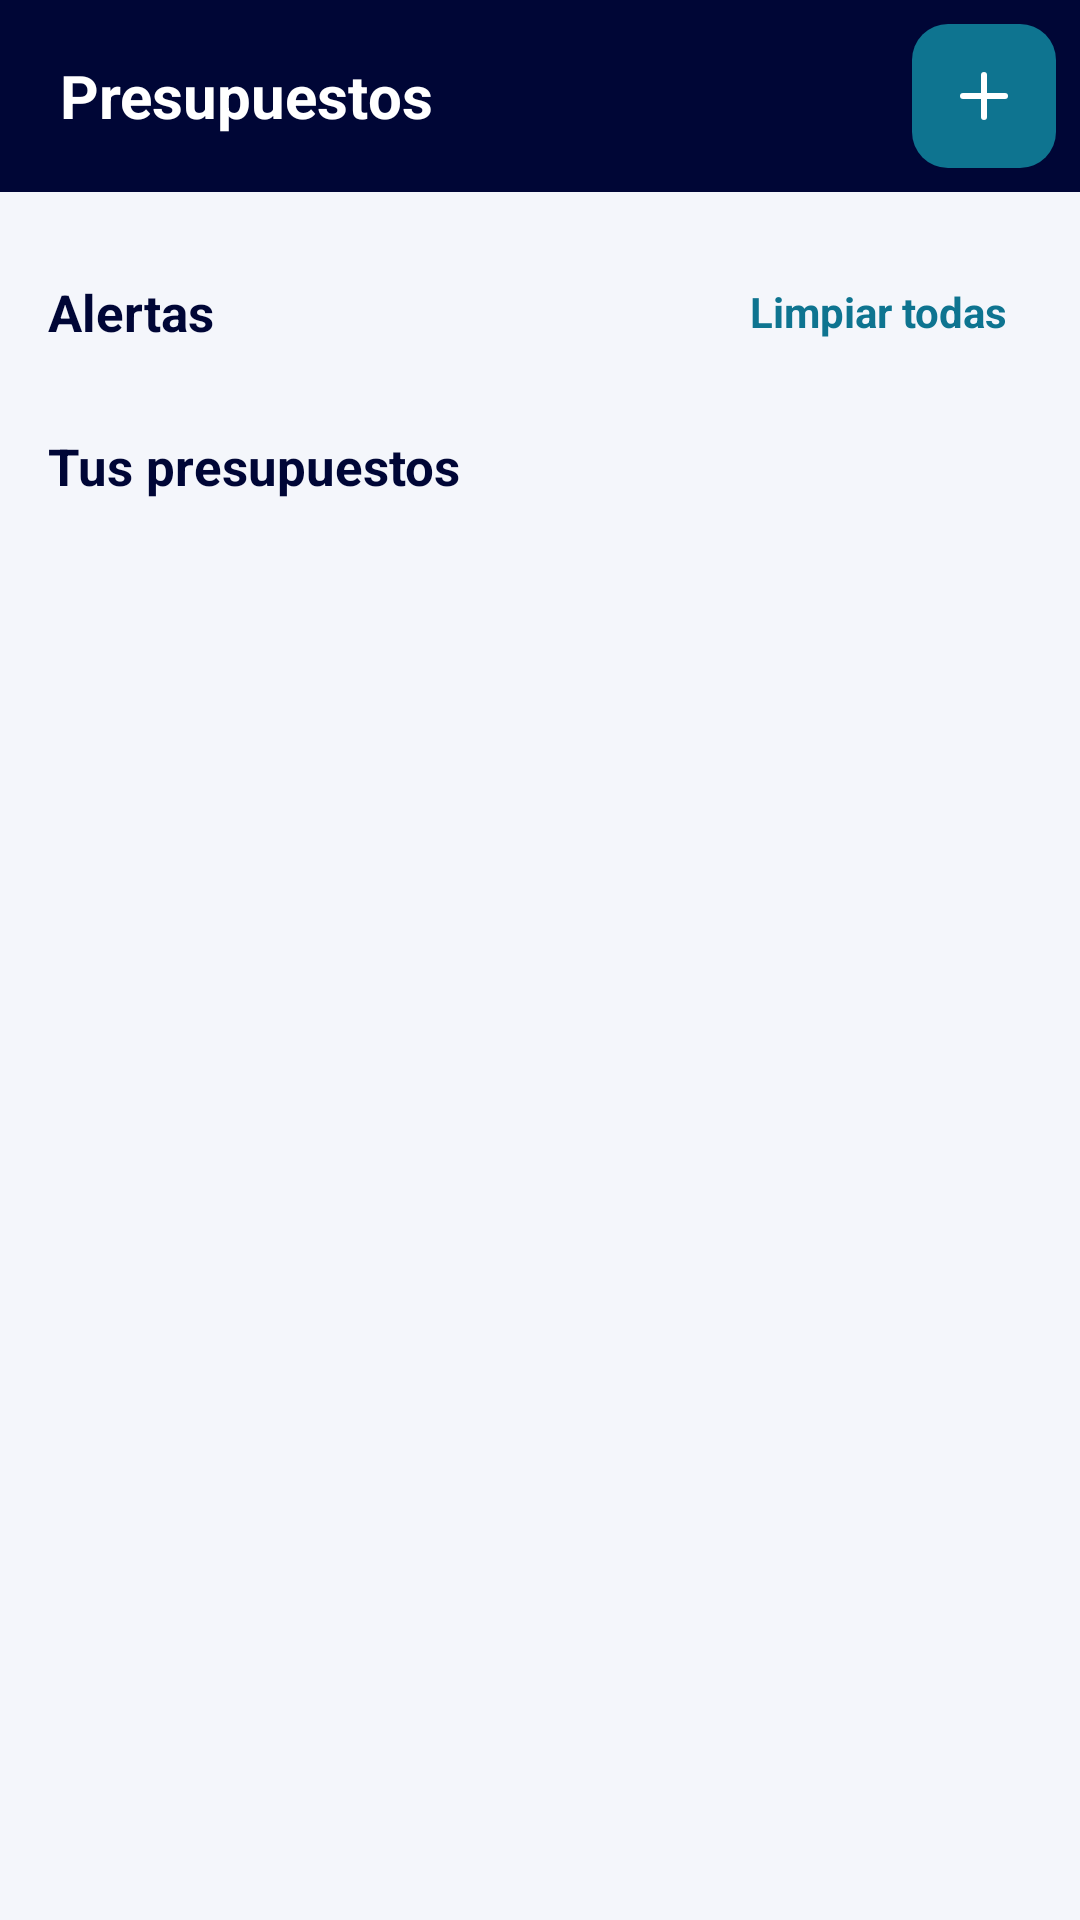

Screen size 1080 × 1920. Icon name, then its box in pixels as (x1, y1, x2, y2):
Crear presupuesto: (912, 24, 1056, 168)
